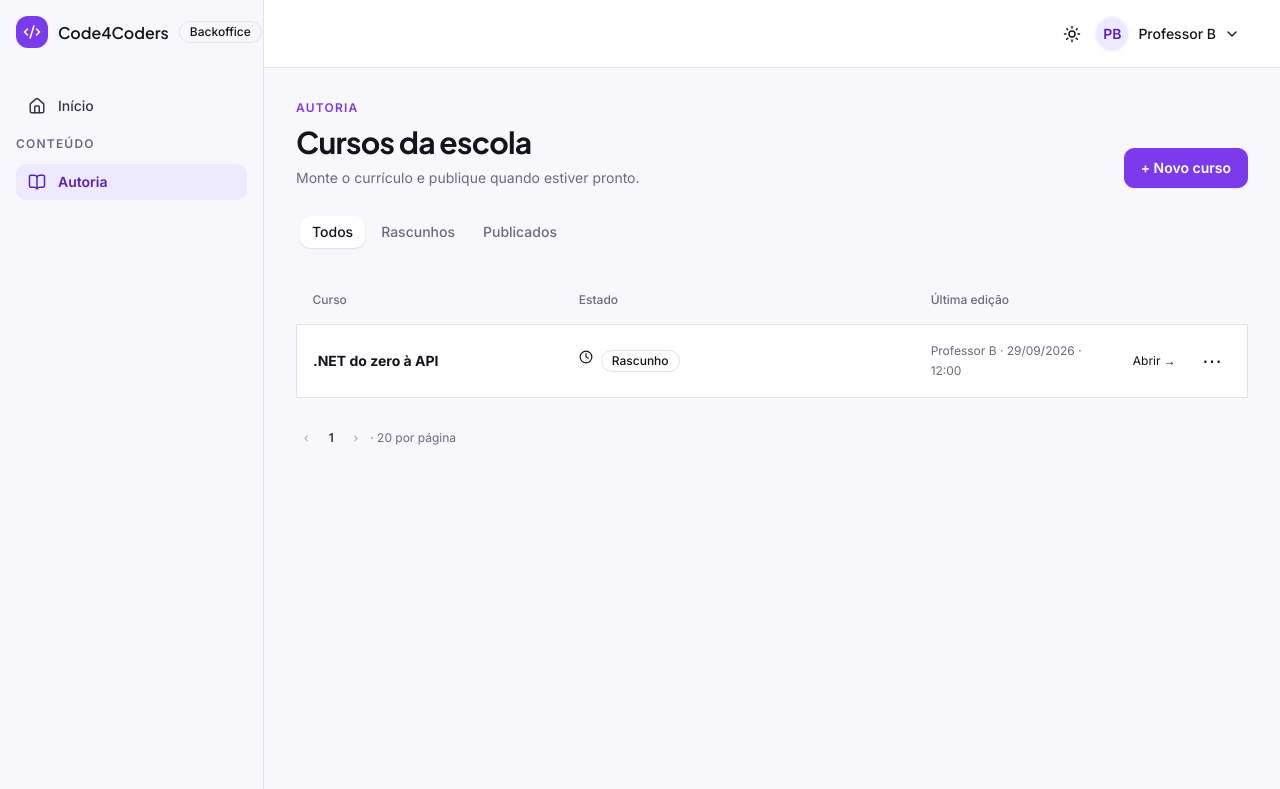
Scenario: authoring courses › validates a blank title then creates with CSRF and opens the editor
Click the button "+ Novo curso" at (1186, 168), box [1124,148,1248,188]
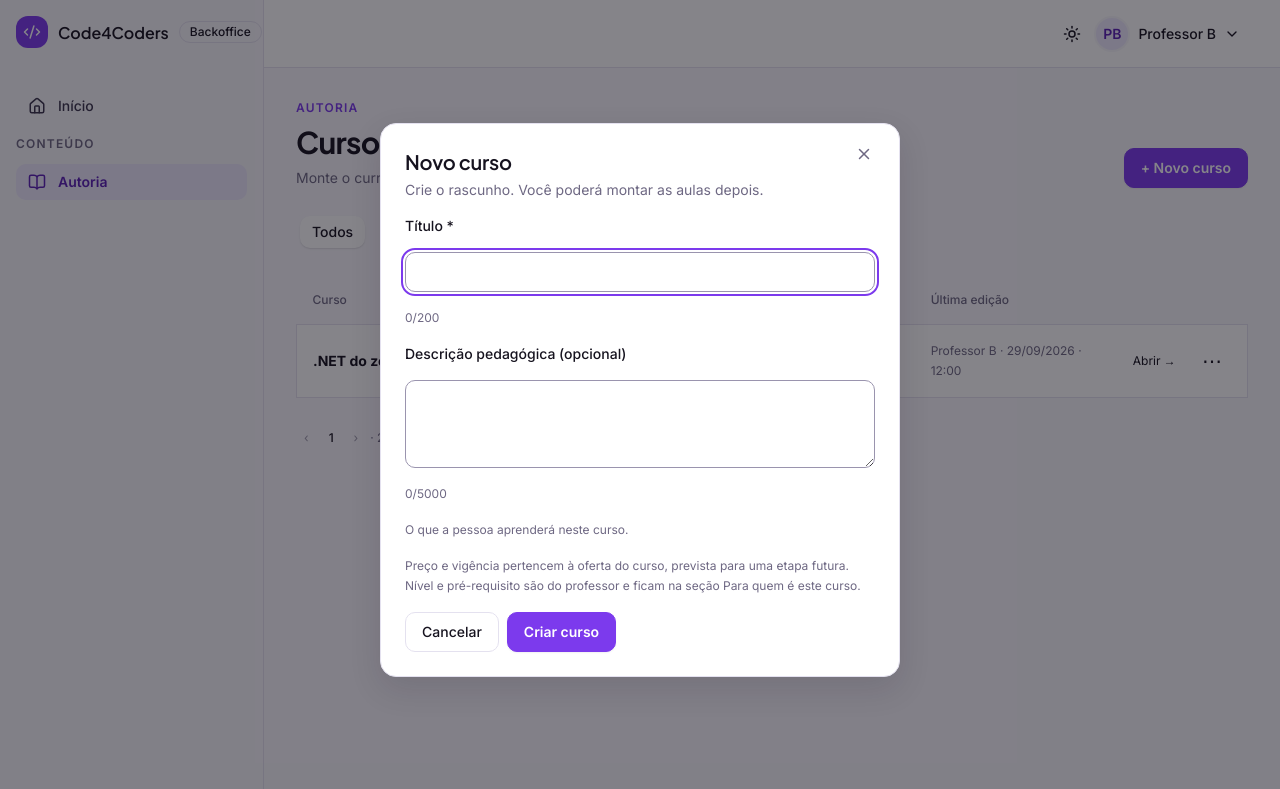
Click the button "Criar curso" at (561, 632), box [507,612,616,652]
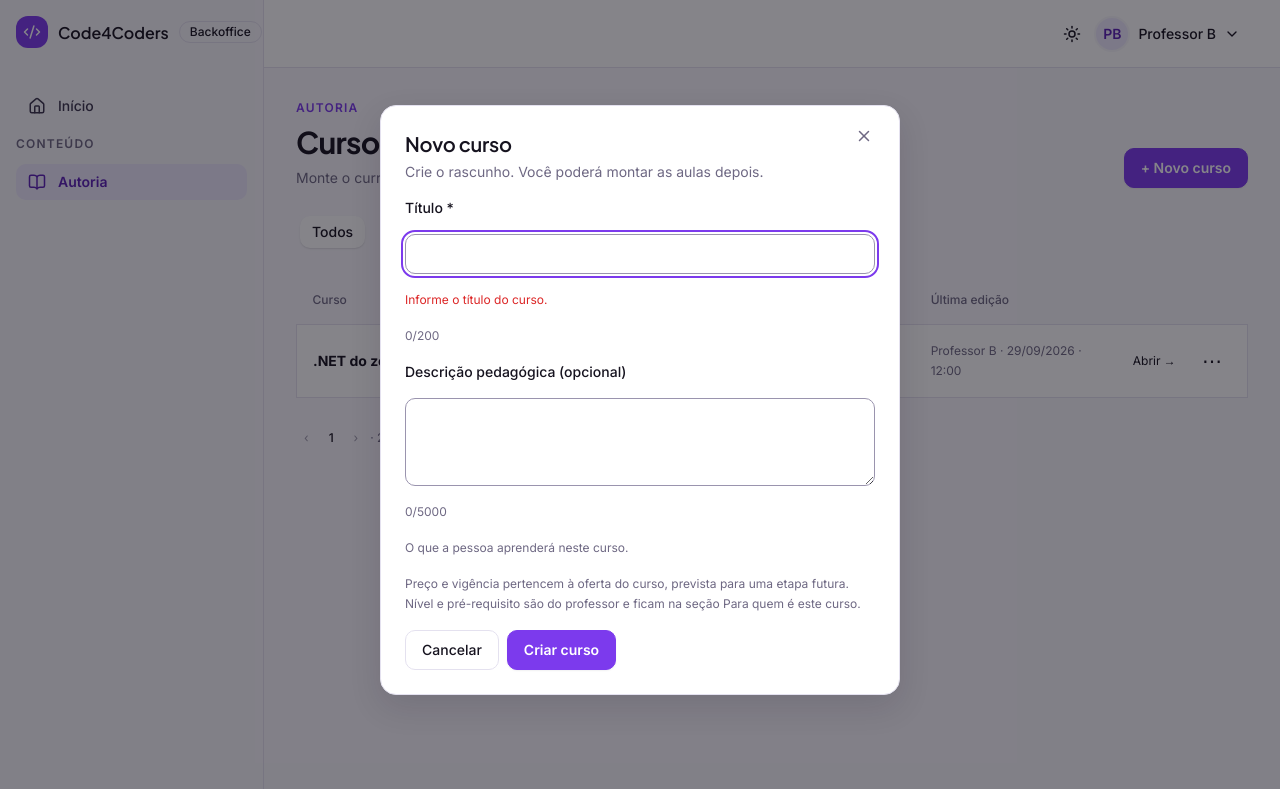
Result: the text "Informe o título do curso." is shown at [405,292,548,307]
Type "Novo curso de APIs" into the field labelled "Título *" at (640, 254), box [405,234,875,274]
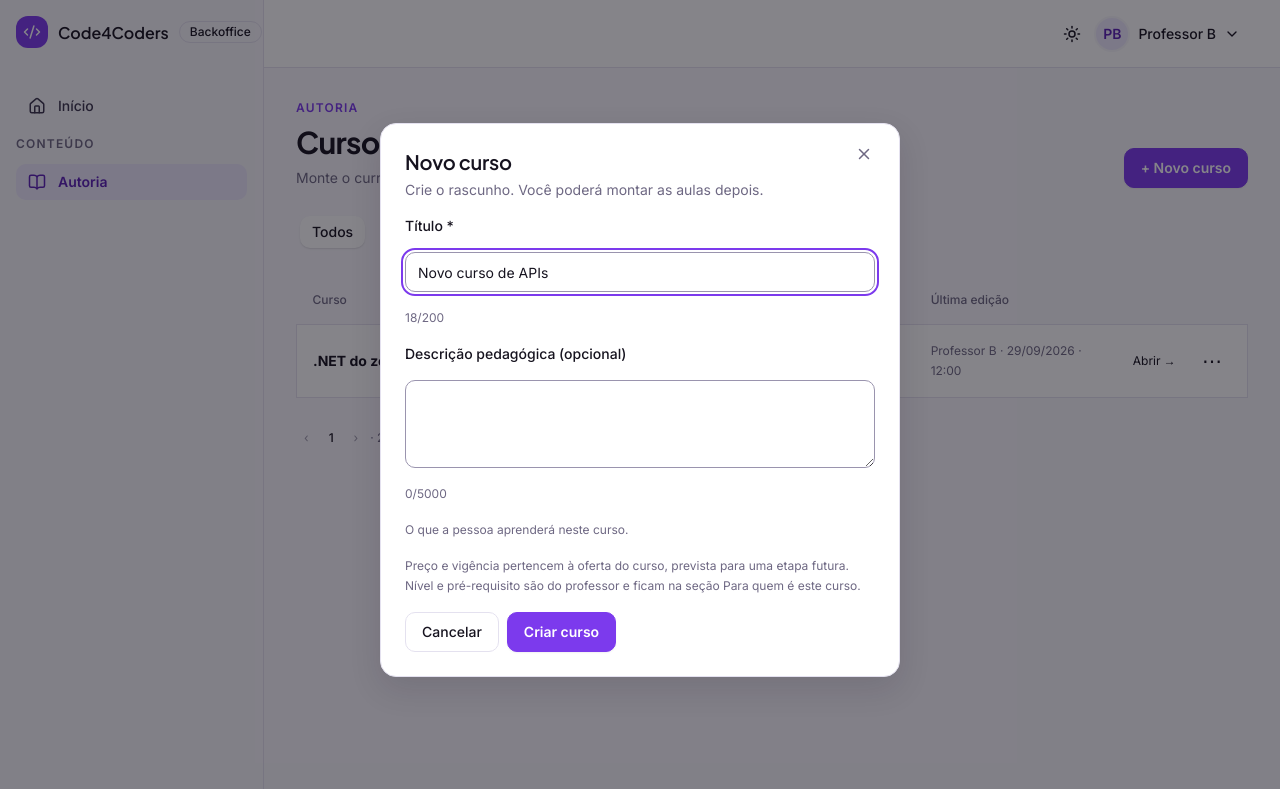
Type "Aprenda APIs" into the text box labelled "Descrição pedagógica (opcional)" at (640, 424), box [405,380,875,468]
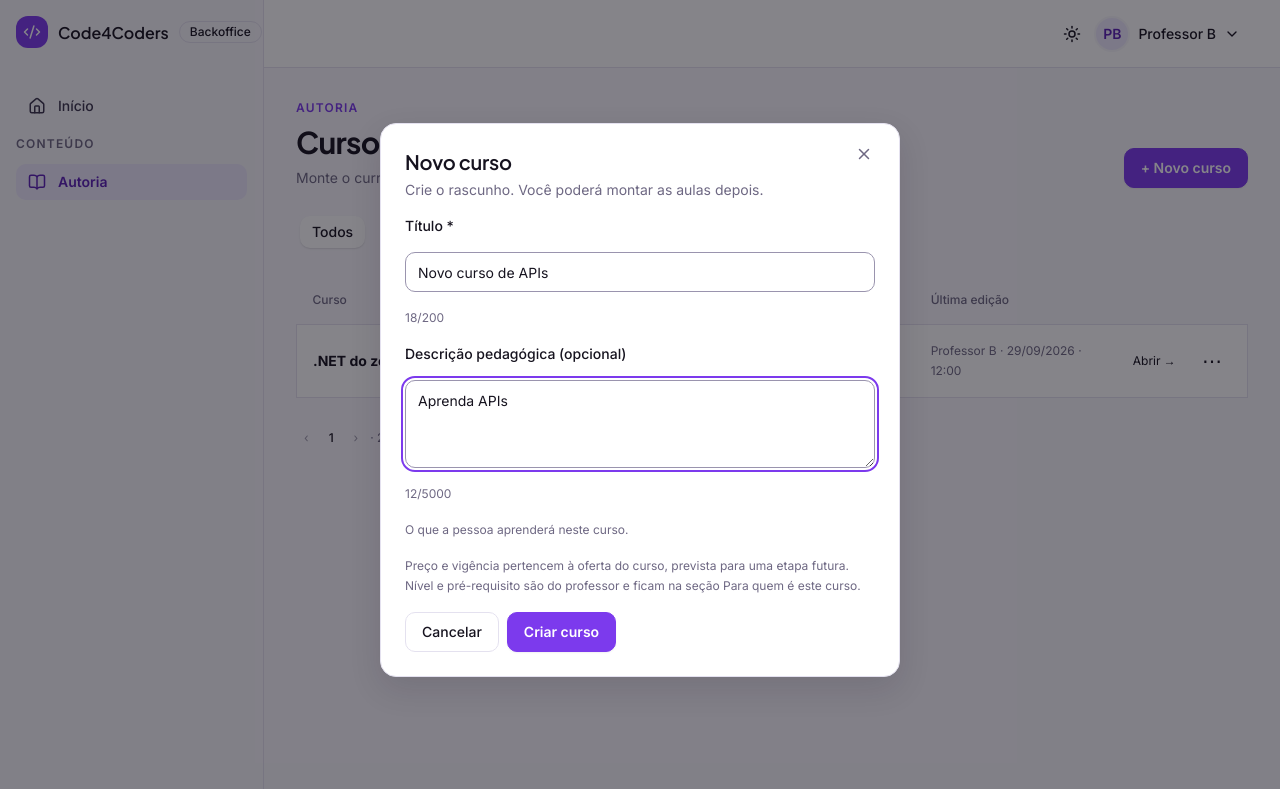
Click the button "Criar curso" at (561, 632), box [507,612,616,652]
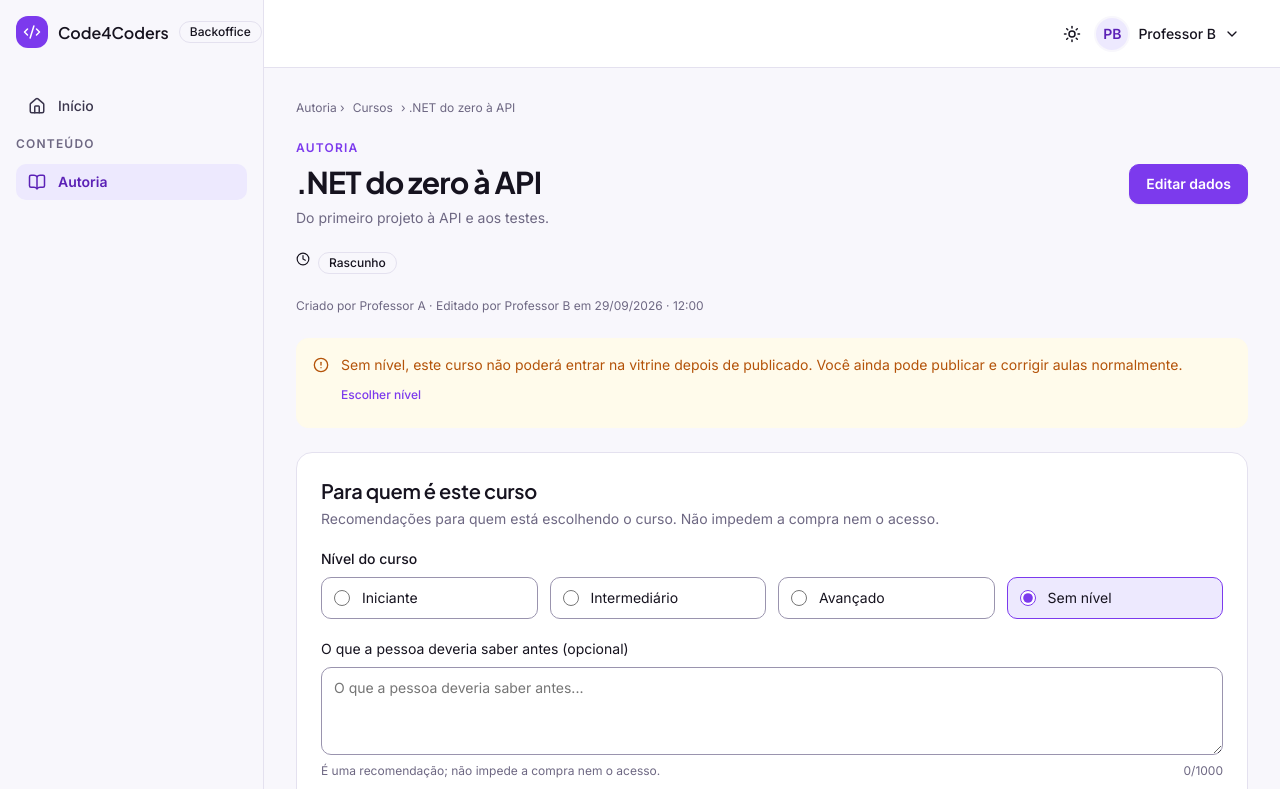
Result: the heading ".NET do zero à API" is shown at [296,163,541,201]
